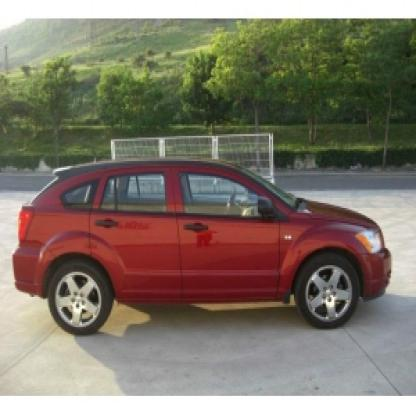Vehicle: (11, 157, 395, 336)
